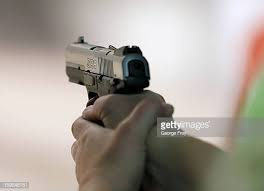Gun: (56, 36, 146, 89)
